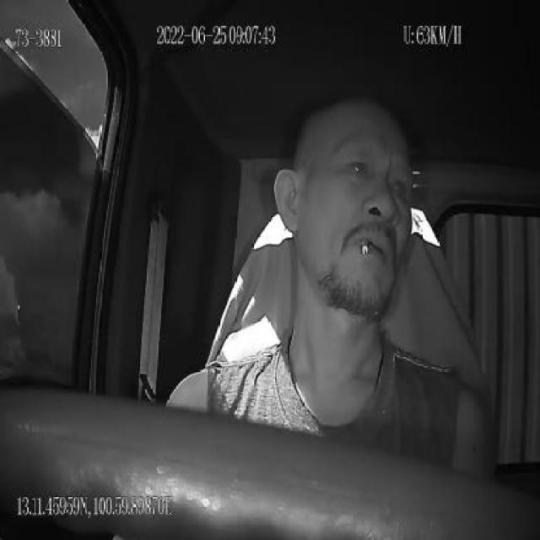smoking: (362, 238, 368, 256)
